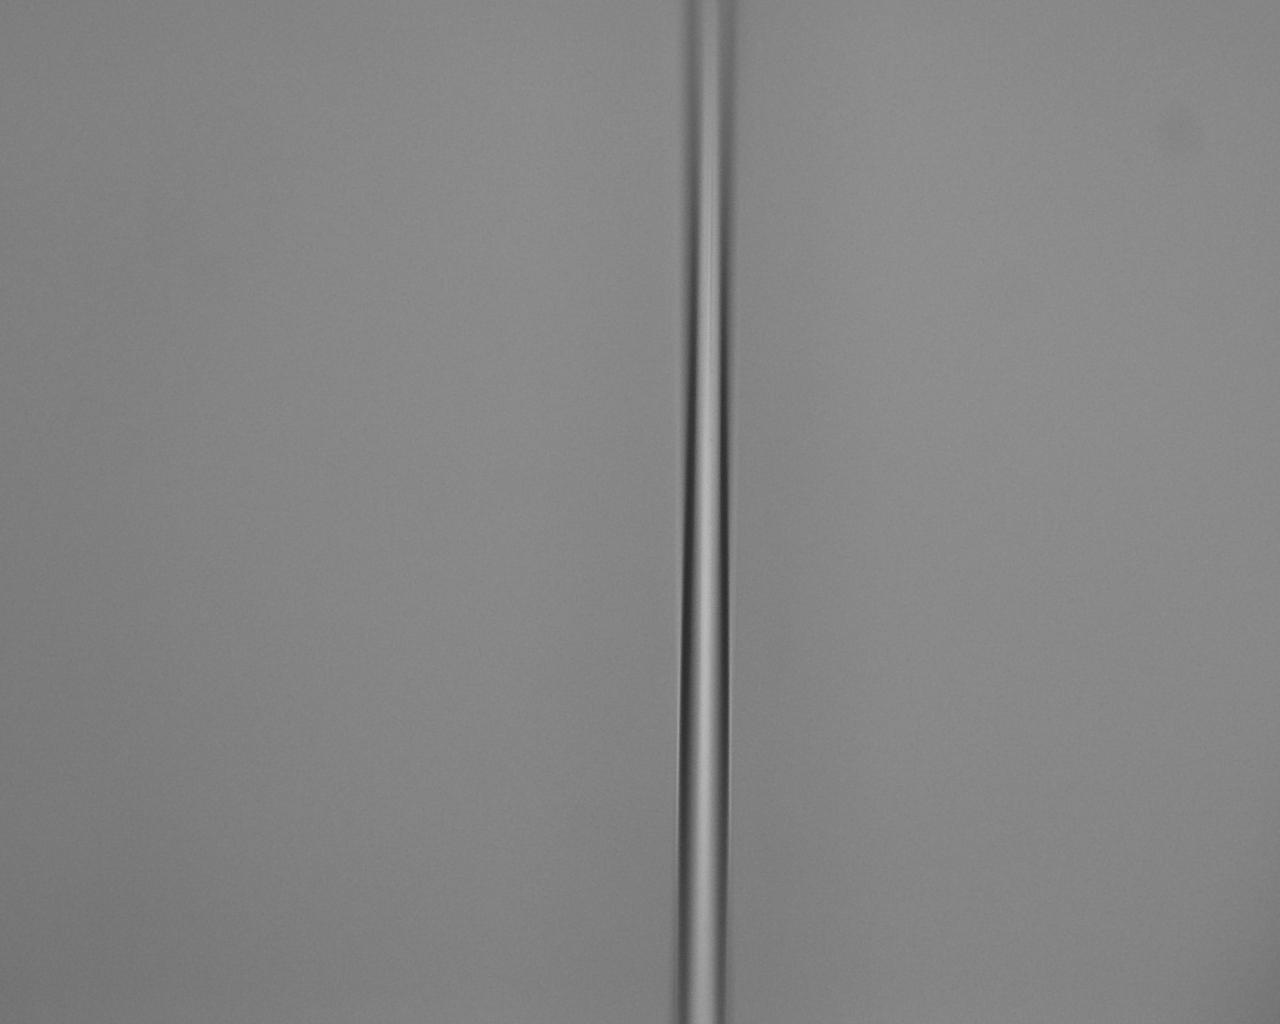fiber: (705, 0, 726, 1024)
